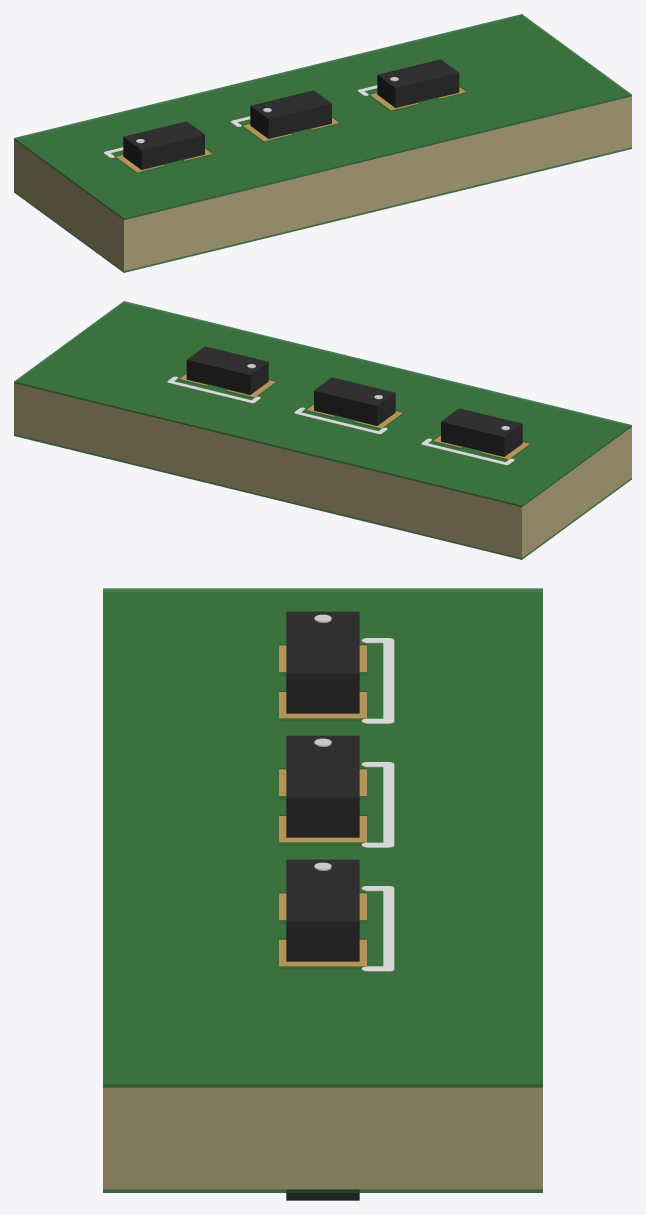
The model's file is package-silkscreen.glb.
3 views of the same model, one above another, from view 1: azimuth 30°, elevation 25°; view 2: azimuth 150°, elevation 25°; view 3: azimuth 270°, elevation 25° (orthographic). The views are drawn at different scales.
Parts seen in each view (by area): view 1: layer/@soldermask-top, layer/@core, R3, R1, R2, layer/@soldermask-bottom, layer/TOP; view 2: layer/@soldermask-top, layer/@core, R3, R1, R2, layer/@soldermask-bottom, layer/SST, layer/TOP; view 3: layer/@soldermask-top, layer/@core, R1, R2, R3, layer/TOP, layer/SST, layer/@soldermask-bottom.
Part boxes in pixels (x1,y1,x2,y2): layer/@soldermask-top: (14,14,631,220); layer/@core: (14,17,631,270); R3: (377,59,459,107); R1: (123,121,204,169); R2: (250,90,331,138); layer/@soldermask-bottom: (14,147,631,272); layer/TOP: (116,87,466,172); layer/@soldermask-top: (14,301,631,507); layer/@core: (14,304,631,557); R3: (186,346,268,394); R1: (441,408,522,456); R2: (314,377,395,425); layer/@soldermask-bottom: (14,434,631,559); layer/SST: (167,376,514,465); layer/TOP: (179,374,529,459); layer/@soldermask-top: (103,588,542,1087); layer/@core: (103,592,542,1189); R1: (286,611,359,713); R2: (286,735,359,837); R3: (286,859,359,961); layer/TOP: (279,645,366,969); layer/SST: (361,638,394,971); layer/@soldermask-bottom: (103,1189,542,1192).
Bounding box in the file's own units: 0.016 × 0.00284 × 0.006.
